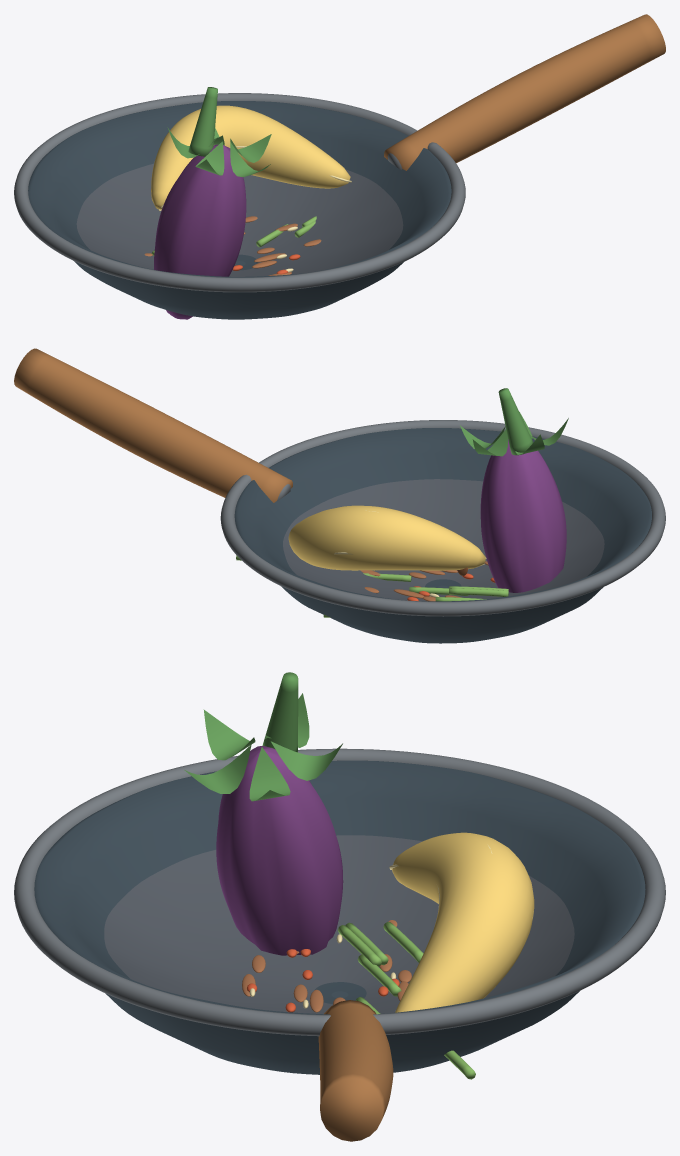
Rendered from K01_Sculpted_Wok_Eggplant_Banana.glb.
The picture shows the model from 3 angles, top to bottom: view 1: azimuth 30°, elevation 25°; view 2: azimuth 150°, elevation 25°; view 3: azimuth 270°, elevation 25°; orthographic projection. The views are drawn at different scales.
Parts seen in each view (by area): view 1: K01 hand-forged curved steel wok - actual inner and outer su, K01 dark blue nonuniform inner seasoning, K01 curving long wooden handle, K01 | Cast dark steel rolled rim, Actual irregular roasted aubergine body, K01 curved ripe banana sculpt, K01 | Organic calyx forest green, K01 | Hot caramelized sauce glaze; view 2: K01 hand-forged curved steel wok - actual inner and outer su, K01 curving long wooden handle, K01 | Cast dark steel rolled rim, K01 dark blue nonuniform inner seasoning, Actual irregular roasted aubergine body, K01 curved ripe banana sculpt, K01 | Organic calyx forest green, K01 | Fried spring onion celery green, K01 | Hot caramelized sauce glaze; view 3: K01 hand-forged curved steel wok - actual inner and outer su, K01 dark blue nonuniform inner seasoning, K01 | Cast dark steel rolled rim, Actual irregular roasted aubergine body, K01 curved ripe banana sculpt, K01 curving long wooden handle, K01 | Organic calyx forest green, K01 | Fried spring onion celery green, K01 | Hot caramelized sauce glaze.
Part boxes in pixels (x1,y1,x2,y2): K01 hand-forged curved steel wok - actual inner and outer su: (28, 101, 451, 319); K01 dark blue nonuniform inner seasoning: (76, 163, 403, 276); K01 curving long wooden handle: (384, 14, 665, 170); K01 | Cast dark steel rolled rim: (14, 93, 465, 292); Actual irregular roasted aubergine body: (154, 144, 246, 319); K01 curved ripe banana sculpt: (151, 105, 350, 209); K01 | Organic calyx forest green: (167, 87, 271, 177); K01 | Hot caramelized sauce glaze: (144, 216, 321, 275); K01 hand-forged curved steel wok - actual inner and outer su: (234, 428, 651, 643); K01 curving long wooden handle: (14, 348, 292, 502); K01 | Cast dark steel rolled rim: (220, 420, 665, 616); K01 dark blue nonuniform inner seasoning: (283, 479, 604, 601); Actual irregular roasted aubergine body: (480, 439, 566, 592); K01 curved ripe banana sculpt: (288, 505, 485, 570); K01 | Organic calyx forest green: (460, 388, 568, 456); K01 | Fried spring onion celery green: (236, 555, 508, 617); K01 | Hot caramelized sauce glaze: (360, 561, 488, 601); K01 hand-forged curved steel wok - actual inner and outer su: (34, 760, 645, 1074); K01 dark blue nonuniform inner seasoning: (104, 835, 574, 1014); K01 | Cast dark steel rolled rim: (14, 748, 665, 1036); Actual irregular roasted aubergine body: (216, 746, 343, 955); K01 curved ripe banana sculpt: (392, 832, 534, 1012); K01 curving long wooden handle: (318, 1000, 393, 1141); K01 | Organic calyx forest green: (184, 672, 342, 801); K01 | Fried spring onion celery green: (338, 922, 475, 1079); K01 | Hot caramelized sauce glaze: (242, 920, 411, 1012).
Bounding box in the file's own units: 3.09 × 1.08 × 1.95.
